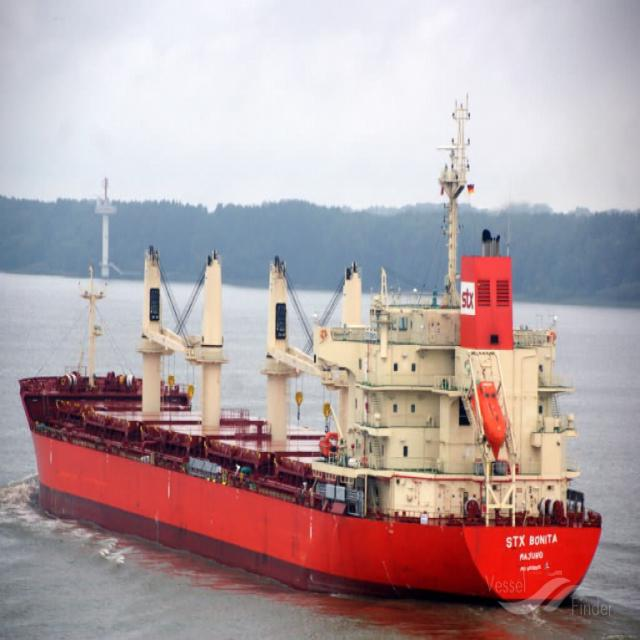OCR: (500, 530, 563, 582)
